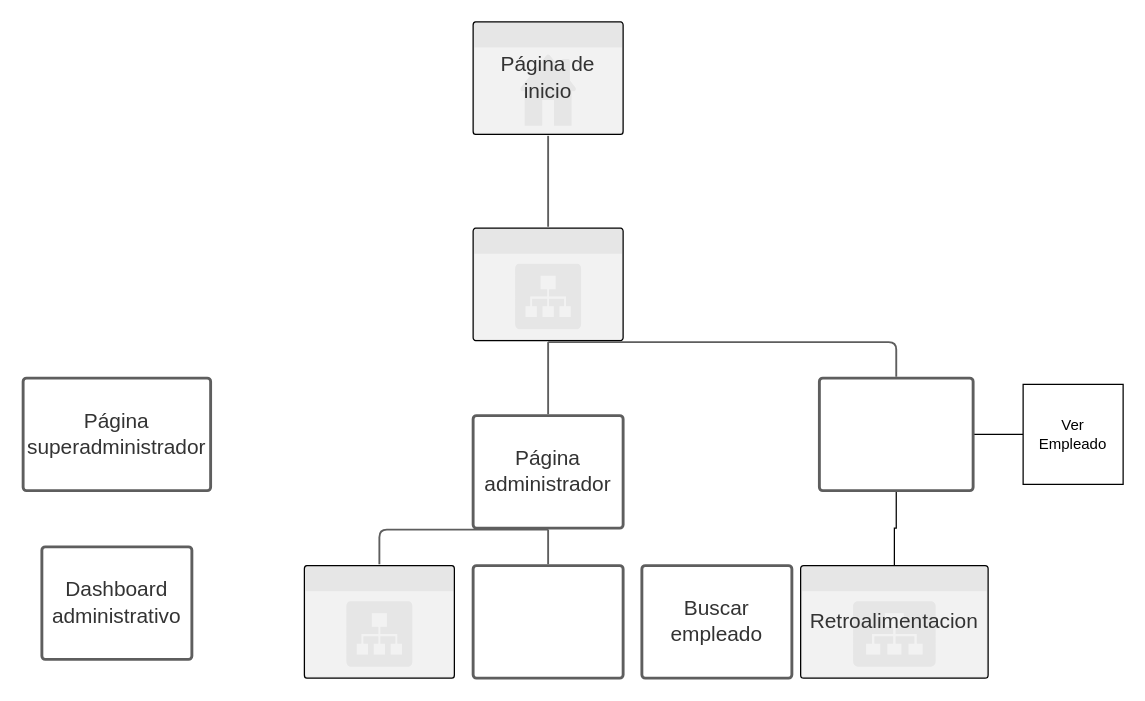
The diagram is 1145 pixels wide and 701 high, and some of its shapes have lost their labels. Each missing label, with the centre of its shape:
"crear empleado" goes at (x=378, y=621).
"editar empleado" goes at (x=547, y=621).
"Log in" goes at (x=547, y=284).
"Página empleado" goes at (x=895, y=434).
